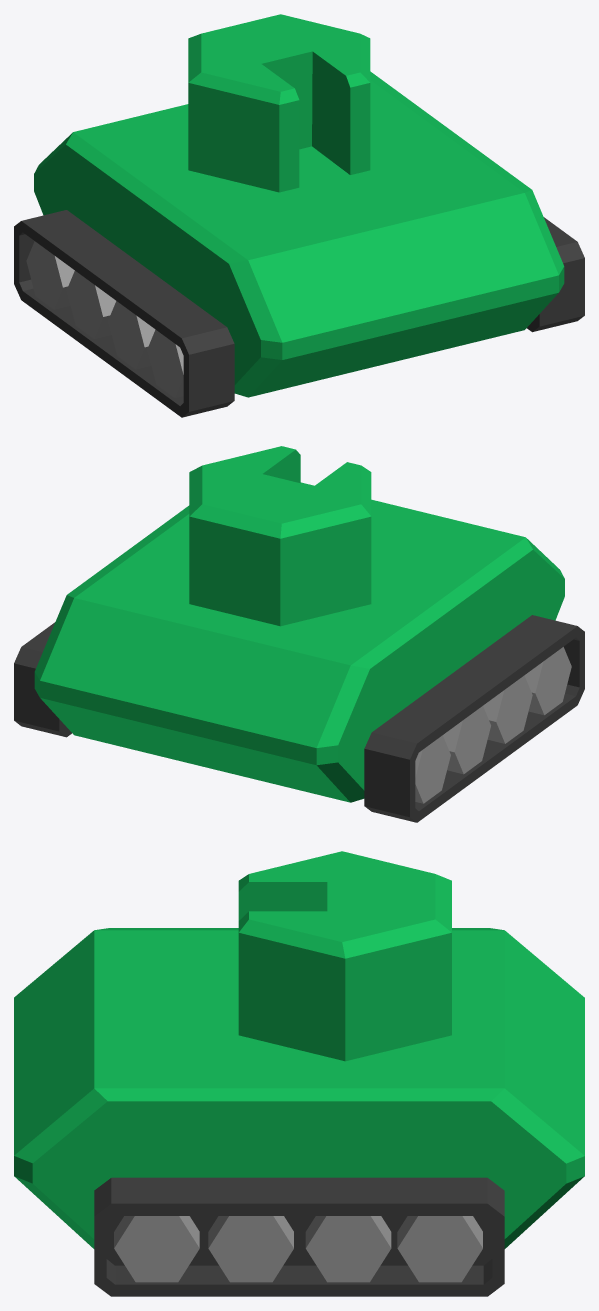
Rendered from tank.fbx.
The picture shows the model from 3 angles, top to bottom: view 1: azimuth 30°, elevation 25°; view 2: azimuth 150°, elevation 25°; view 3: azimuth 270°, elevation 25°; orthographic projection. The views are drawn at different scales.
Parts seen in each view (by area): view 1: Tank, Glava; view 2: Tank, Glava; view 3: Tank, Glava.
Part boxes in pixels (bbox=[...]): Tank: bbox=[14, 71, 584, 417]; Glava: bbox=[188, 14, 370, 192]; Tank: bbox=[14, 482, 584, 822]; Glava: bbox=[189, 446, 371, 626]; Tank: bbox=[14, 928, 584, 1296]; Glava: bbox=[238, 851, 451, 1061].
Bounding box in the file's own units: 52.22 × 31.56 × 55.64.
